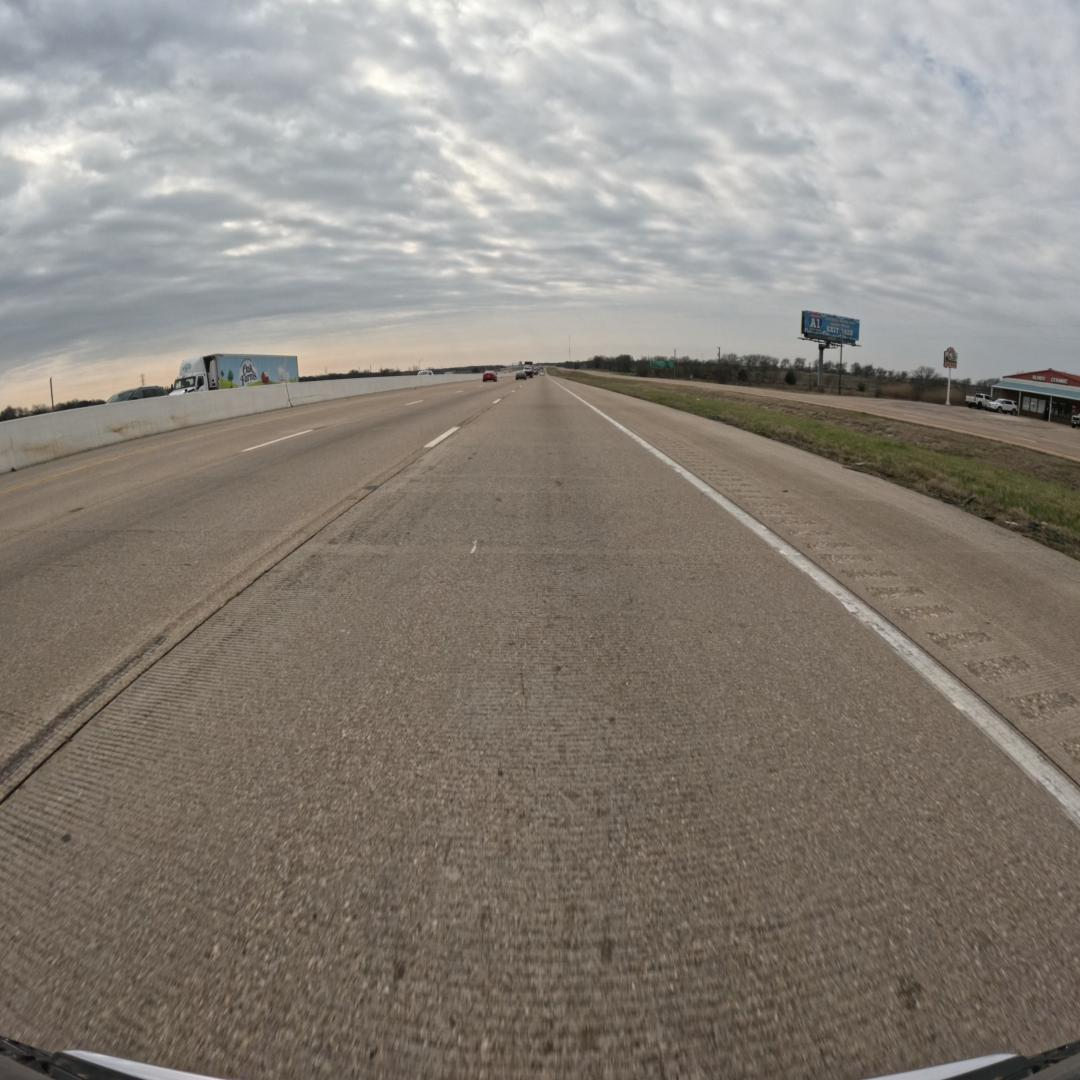lane0: (0, 380, 1080, 1077)
lane1: (0, 382, 518, 800)
